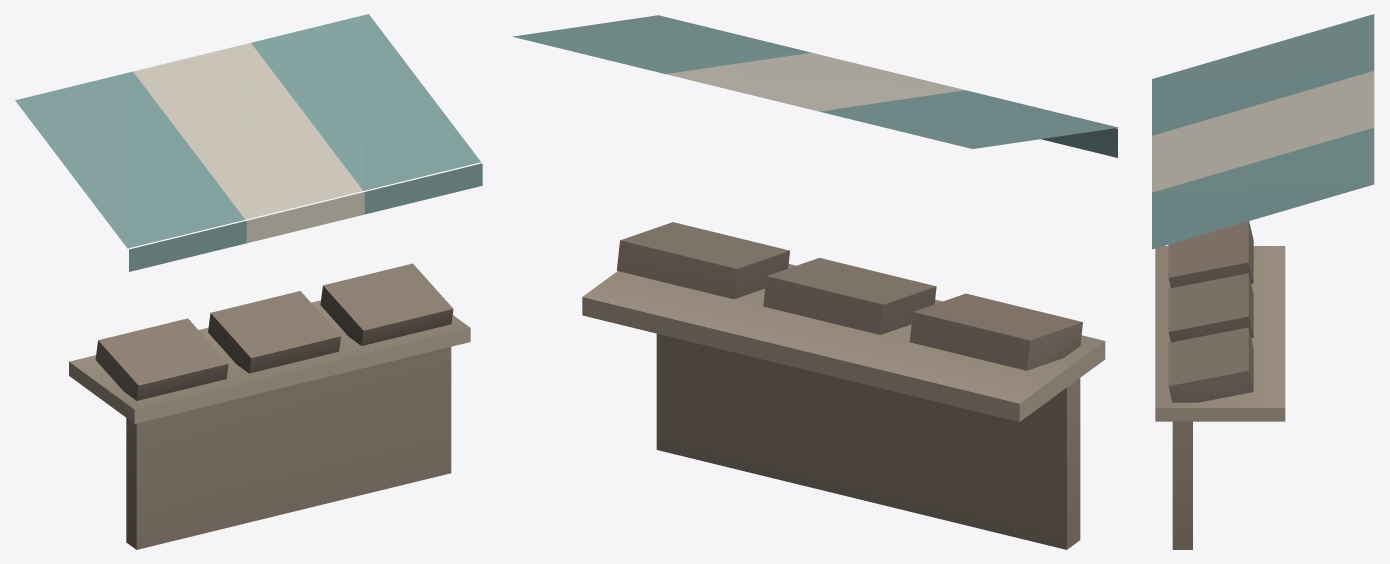
The model's file is stall.lod2.glb.
The picture shows the model from 3 angles, left to right: view 1: azimuth 30°, elevation 25°; view 2: azimuth 150°, elevation 25°; view 3: azimuth 270°, elevation 25°; orthographic projection. The views are drawn at different scales.
Size of the model in its own units: 2.36 by 2.42 by 1.32.
